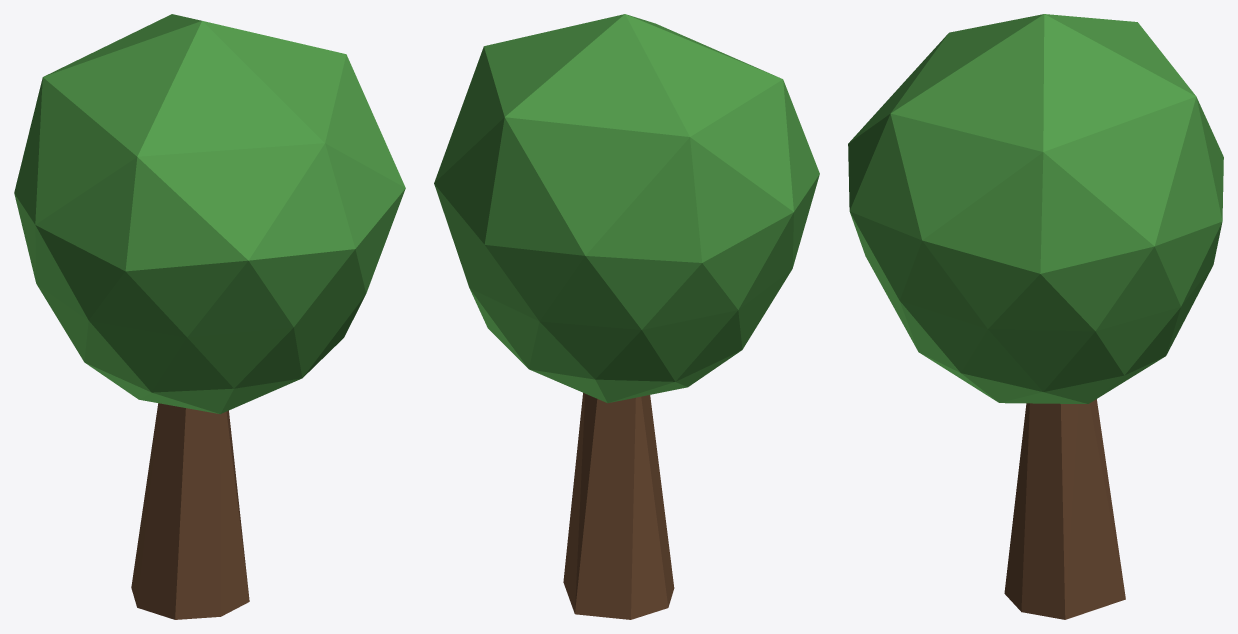
The model's file is Arbol2.fbx.
The picture shows the model from 3 angles, left to right: view 1: azimuth 30°, elevation 25°; view 2: azimuth 150°, elevation 25°; view 3: azimuth 270°, elevation 25°; orthographic projection.
Visible parts, largest first — view 1: Arbol1; view 2: Arbol1; view 3: Arbol1.
Part boxes in pixels (x1,y1,x2,y2): Arbol1: (14,14,405,619); Arbol1: (434,14,819,619); Arbol1: (848,14,1223,619).
Size of the model in its own units: 352 by 574 by 337.
